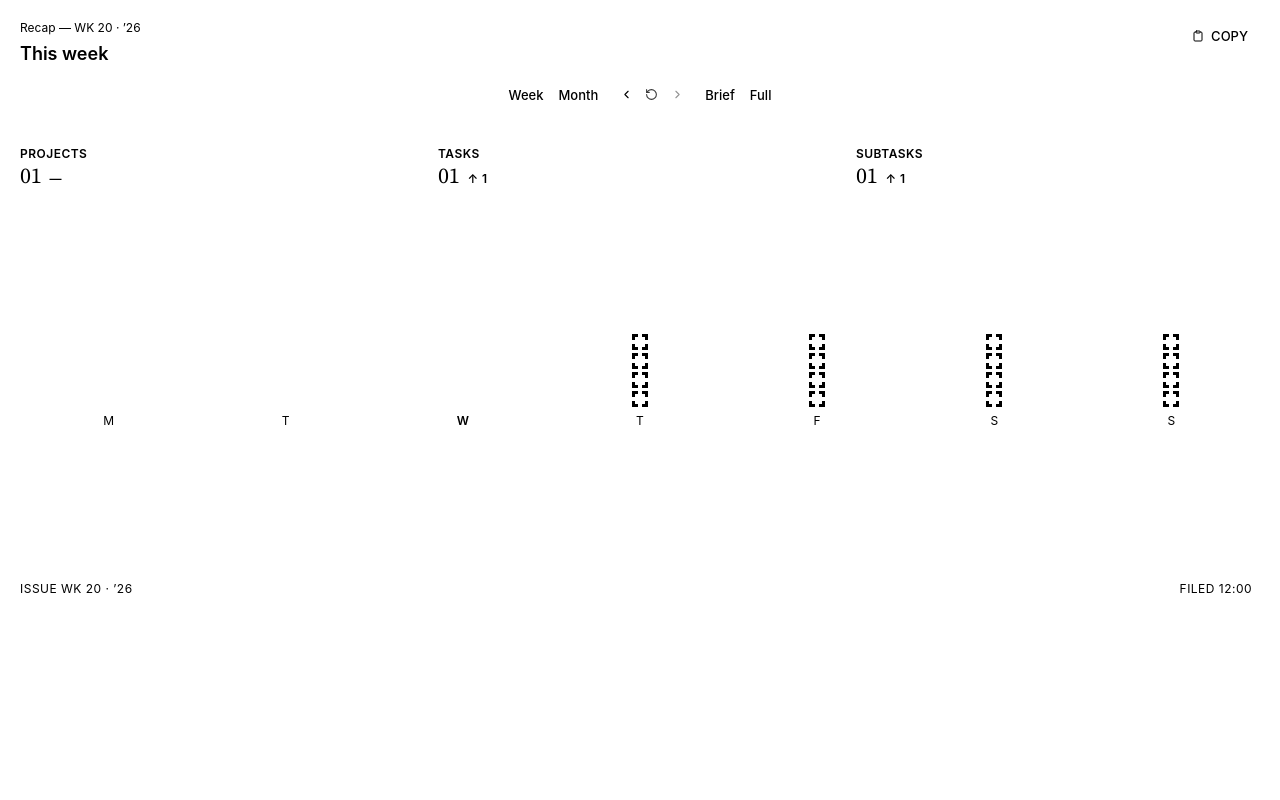
TaskProgressSummaryCard › switches between compact and detailed modes
Expected: the text "Write summary model" is not shown
Click the tab "Full" at (761, 95), box [743,84,778,106]
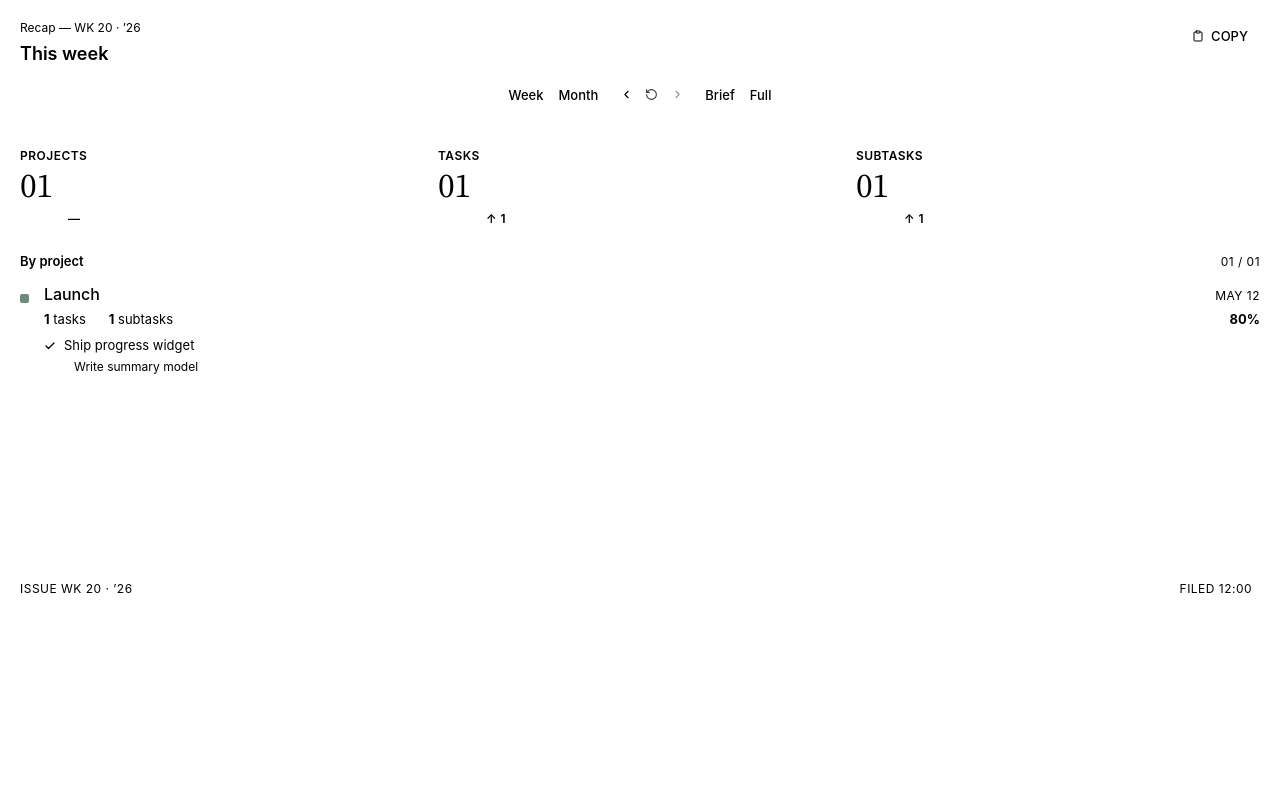
Result: the text "Write summary model" is shown at [74,358,198,376]
